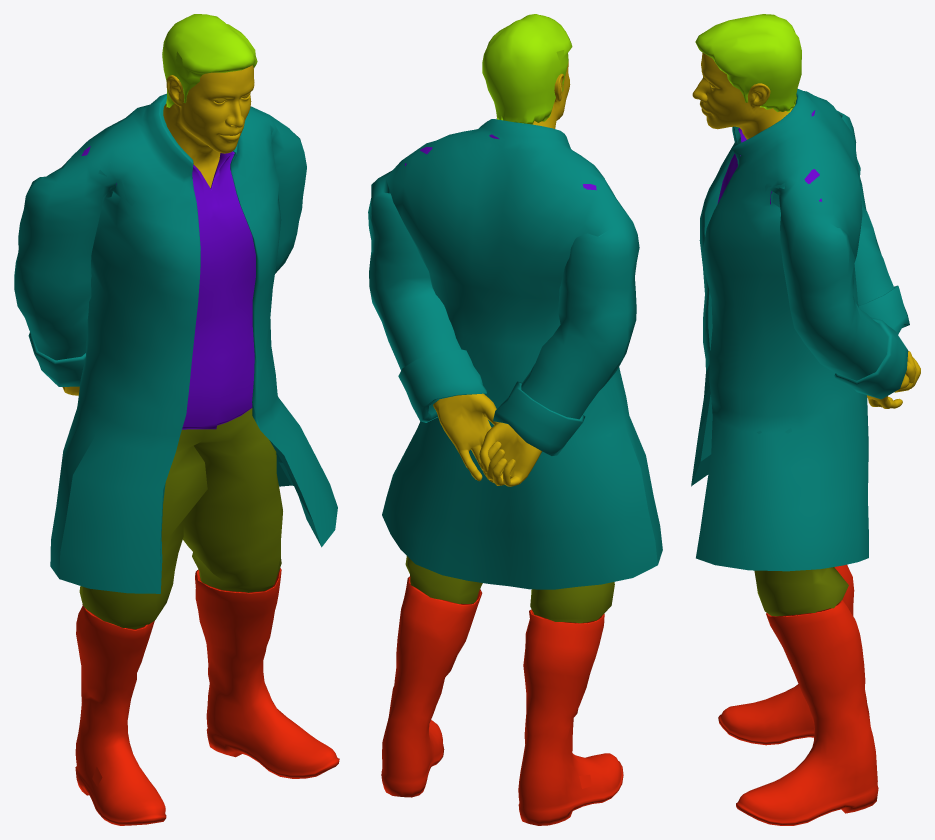
The model's file is RegicideStandingPose2.fbx.
The picture shows the model from 3 angles, left to right: view 1: azimuth 30°, elevation 25°; view 2: azimuth 150°, elevation 25°; view 3: azimuth 270°, elevation 25°; orthographic projection. The views are drawn at different scales.
Visible parts, largest first — view 1: Tops1, Shoes, Bottoms, Tops, Body1, Hair1; view 2: Tops1, Shoes, Hair1, Body1, Bottoms; view 3: Tops1, Shoes, Hair1, Body1, Bottoms, Tops.
Boxes of the visible parts, x1,y1,x2,y2 form: Tops1: [14, 93, 337, 593]; Shoes: [75, 568, 339, 825]; Bottoms: [79, 408, 282, 629]; Tops: [81, 146, 255, 429]; Body1: [62, 65, 254, 395]; Hair1: [162, 14, 257, 107]; Tops1: [368, 119, 662, 589]; Shoes: [381, 576, 623, 825]; Hair1: [482, 14, 572, 124]; Body1: [433, 61, 570, 486]; Bottoms: [405, 556, 614, 623]; Tops1: [691, 89, 909, 571]; Shoes: [718, 564, 878, 825]; Hair1: [695, 14, 801, 112]; Body1: [692, 52, 920, 408]; Bottoms: [754, 567, 848, 616]; Tops: [717, 110, 822, 204].
Size of the model in its own units: 66.88 by 178 by 49.36.
